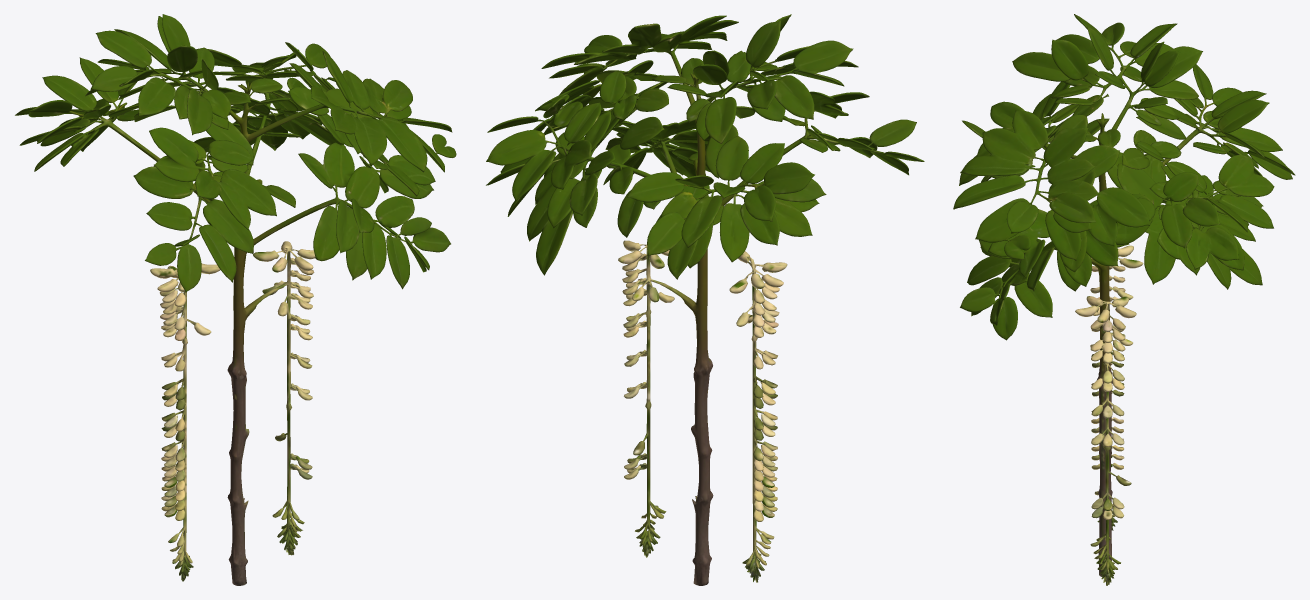
Rendered from huaihua.glb.
3 renders of one model, left to right at view 1: azimuth 30°, elevation 25°; view 2: azimuth 150°, elevation 25°; view 3: azimuth 270°, elevation 25°, orthographic. The views are drawn at different scales.
Visible parts, largest first — view 1: node_0; view 2: node_0; view 3: node_0.
Part boxes in pixels (x1,y1,x2,y2): node_0: [15, 14, 456, 585]; node_0: [486, 14, 924, 585]; node_0: [953, 14, 1295, 585].
Bounding box in the file's own units: 0.6855 × 1.1 × 0.6627.
Materials: 1 (1 with a texture image).
